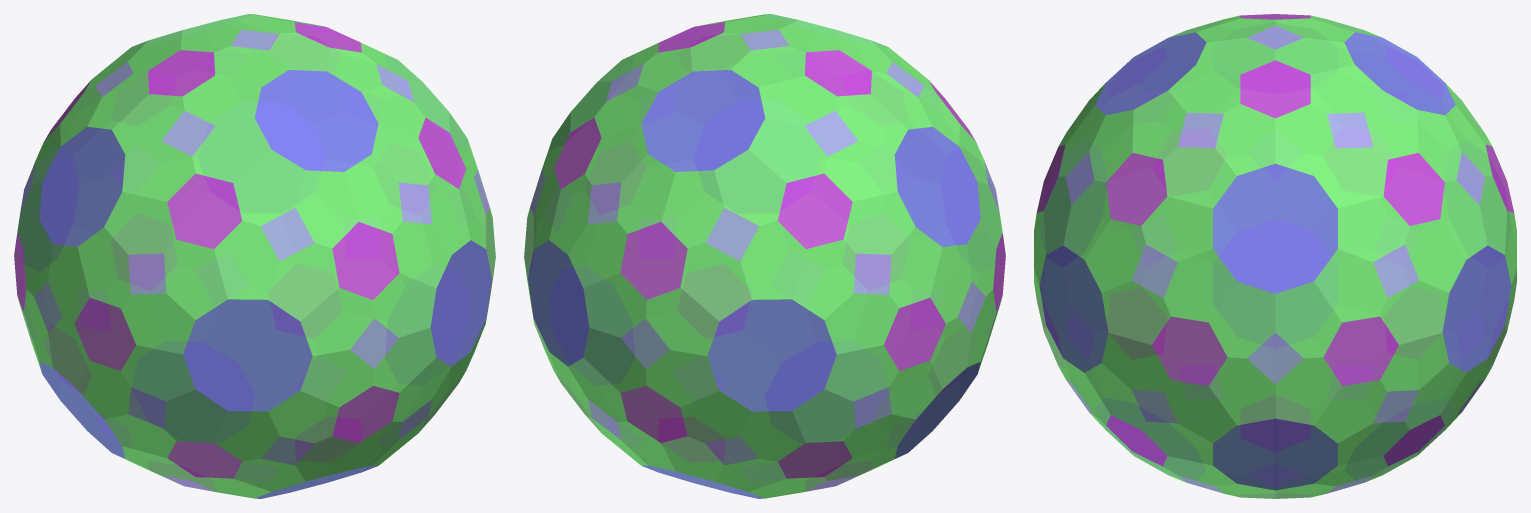
File: TruncatedDisdyakisTriacontahedron.obj
3 views of the same model, side by side, from view 1: azimuth 30°, elevation 25°; view 2: azimuth 150°, elevation 25°; view 3: azimuth 270°, elevation 25° (orthographic).
Bounding box in the file's own units: 11.92 × 11.92 × 11.92.
